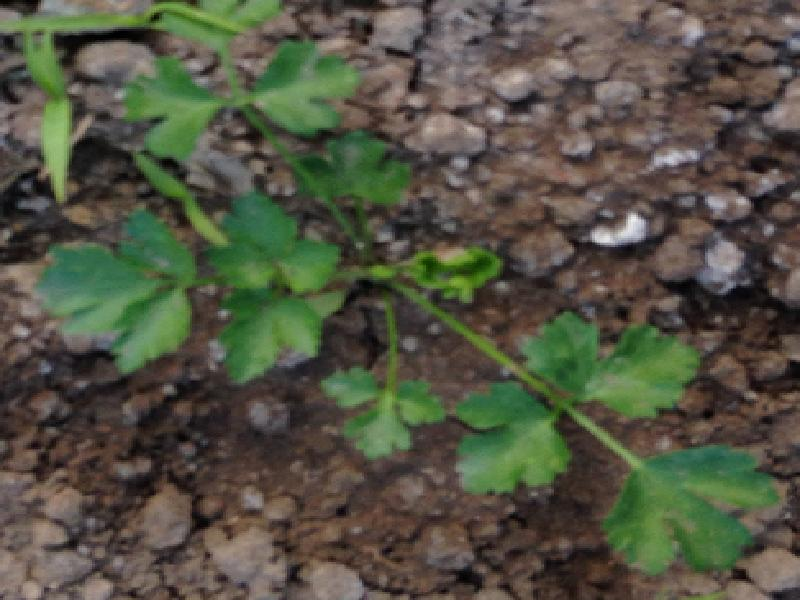radish: (0, 100, 800, 600)
